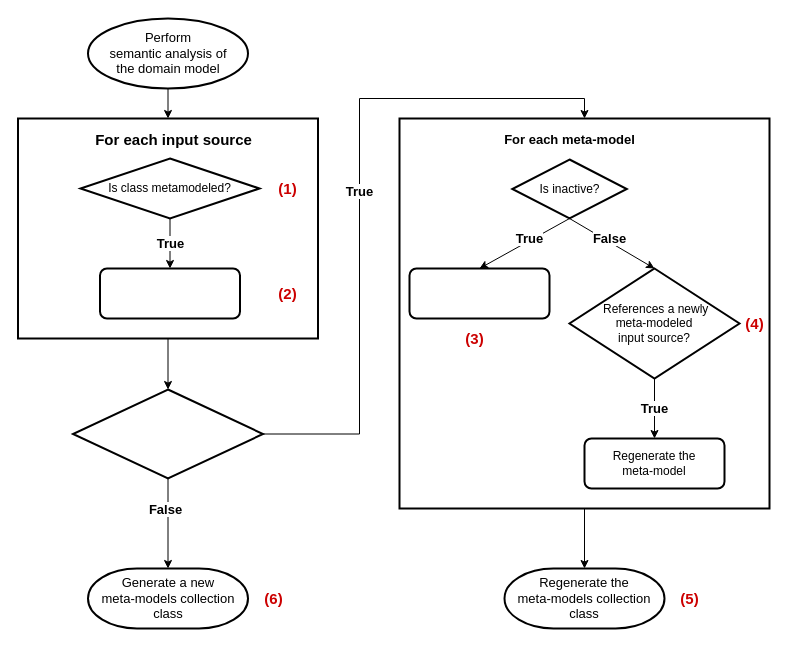
The diagram is 788 pixels wide and 646 high, and some of its shapes have lost their labels. The box of each missing label's shape, as (x1, y1, x2, y2) in pixels:
Generate a meta-model: (98, 267, 240, 319)
Meta-models collection class exists?: (72, 388, 264, 479)
Regenerate the meta-model into an inactive one: (408, 267, 550, 319)
